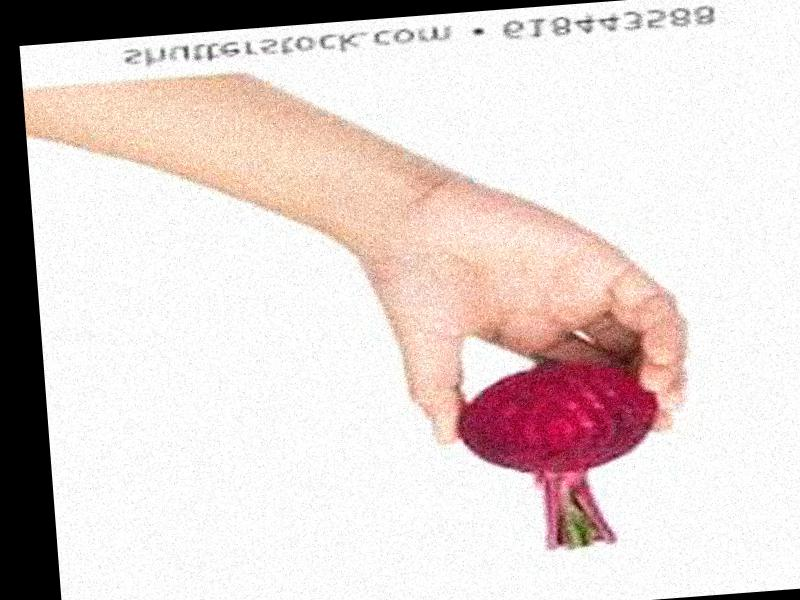Beet: (455, 359, 671, 556)
